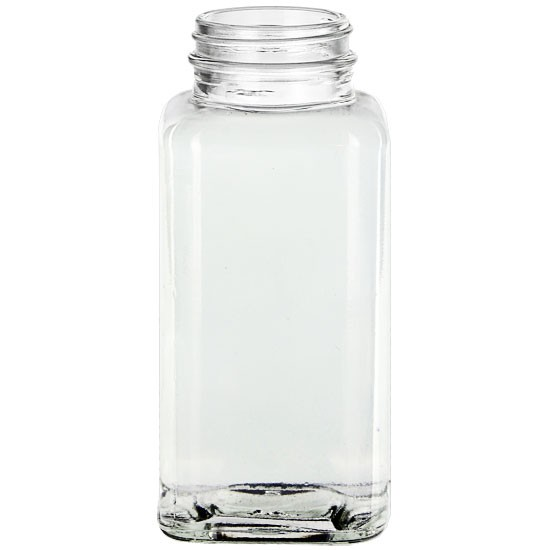Rec_Glass: (138, 5, 400, 539)
